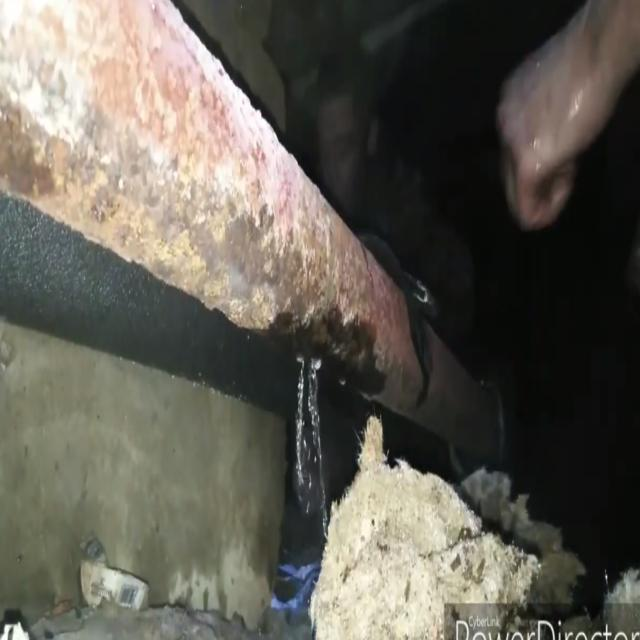leak: (294, 355, 326, 529)
